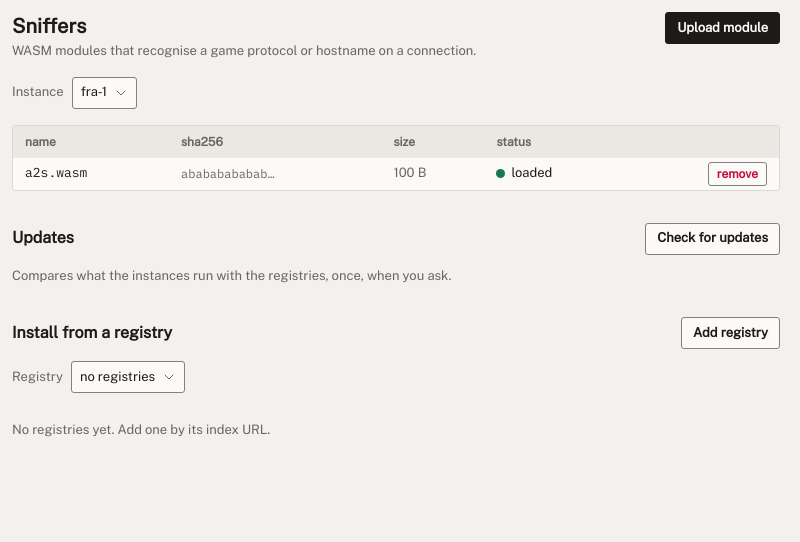
Scenario: SniffersPage updates and rollback › drops the old results when a new check fails
The image size is (800, 542).
Click the button "Check for updates": (713, 239) [645,223,780,255]
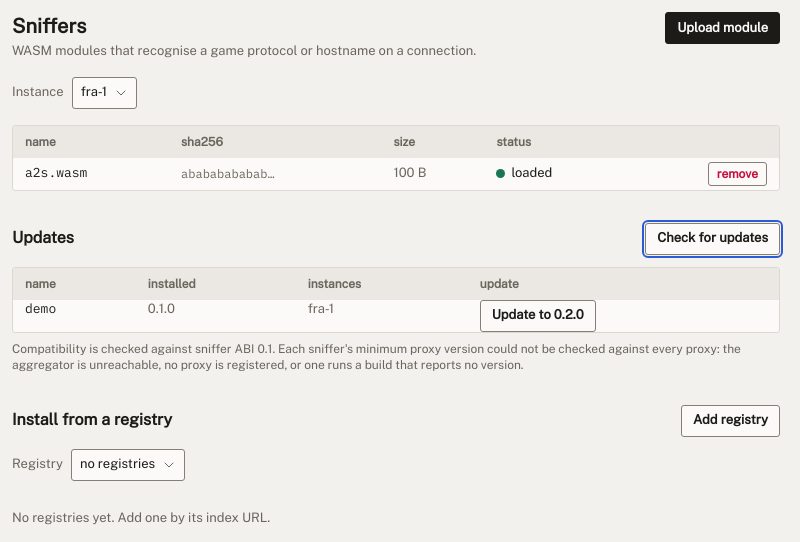
Check: the button "Update to 0.2.0" is shown, box [480,300,596,332]
Click the button "Check for updates": (713, 239) [645,223,780,255]
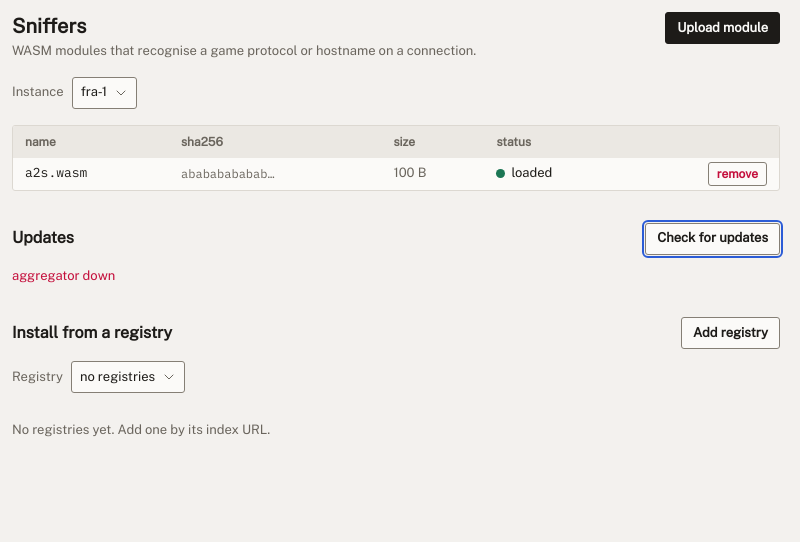
Check: the text "aggregator down" is shown, box [12,268,115,283]
Check: the button "Update to 0.2.0" is gone
